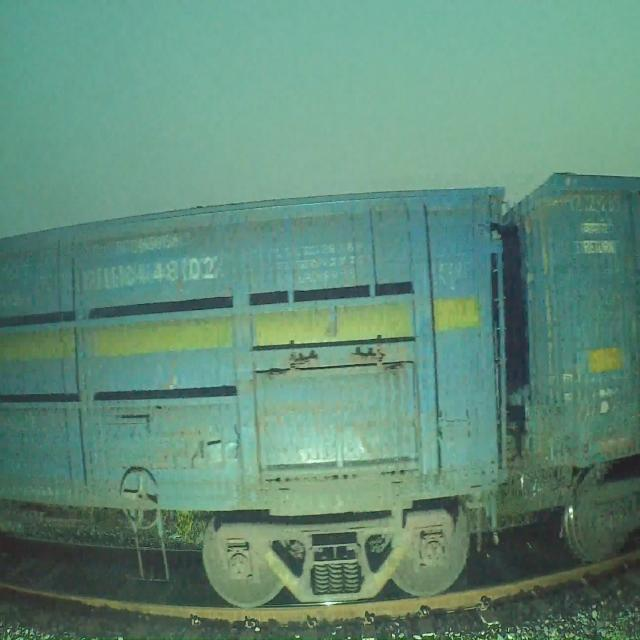WAgon-uic: (0, 178, 514, 611), (488, 168, 640, 571)
uic: (71, 251, 232, 302)
